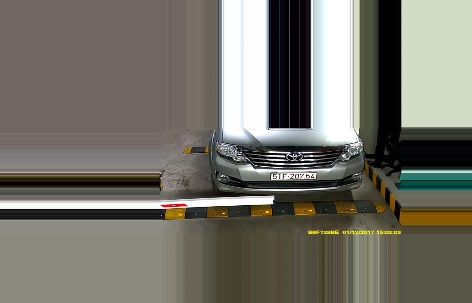plate: (268, 171, 318, 180)
